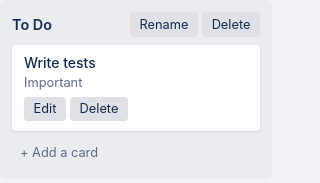
Scenario: Column › shows a rename form when Rename is clicked
Step 1. Click the button "Rename" → [164, 24], box [130,12,198,37]
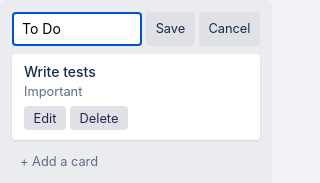
expect the field showing "To Do" is shown: met, box [12,12,142,46]
